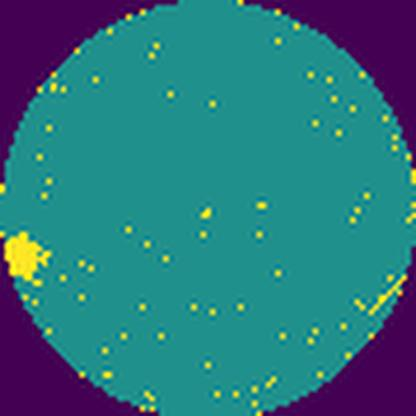Edge-Loc: (4, 231, 54, 281)
